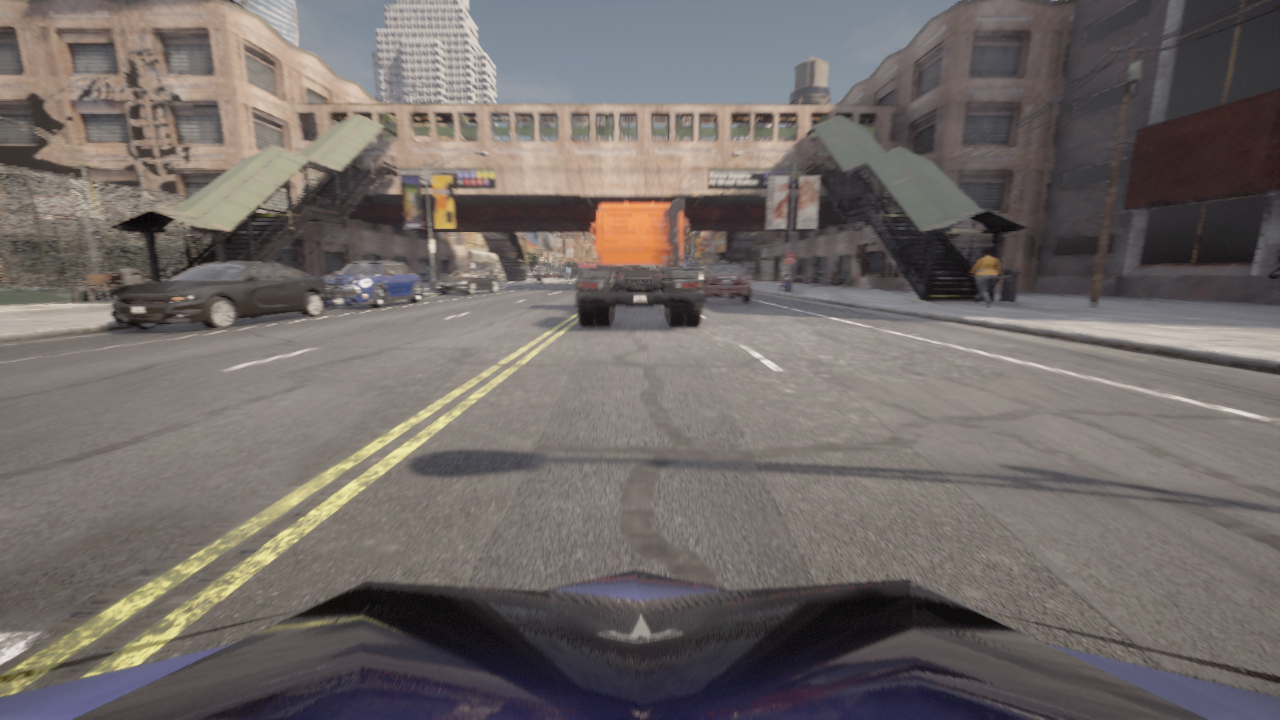cyclist: (0, 569, 1279, 719), (576, 198, 703, 326), (112, 261, 328, 329), (323, 261, 422, 307), (703, 259, 750, 302), (438, 268, 498, 294), (779, 274, 788, 290), (535, 273, 541, 282), (542, 273, 553, 277), (557, 273, 563, 277), (700, 264, 703, 267)
pedestrian: (968, 248, 999, 308)
